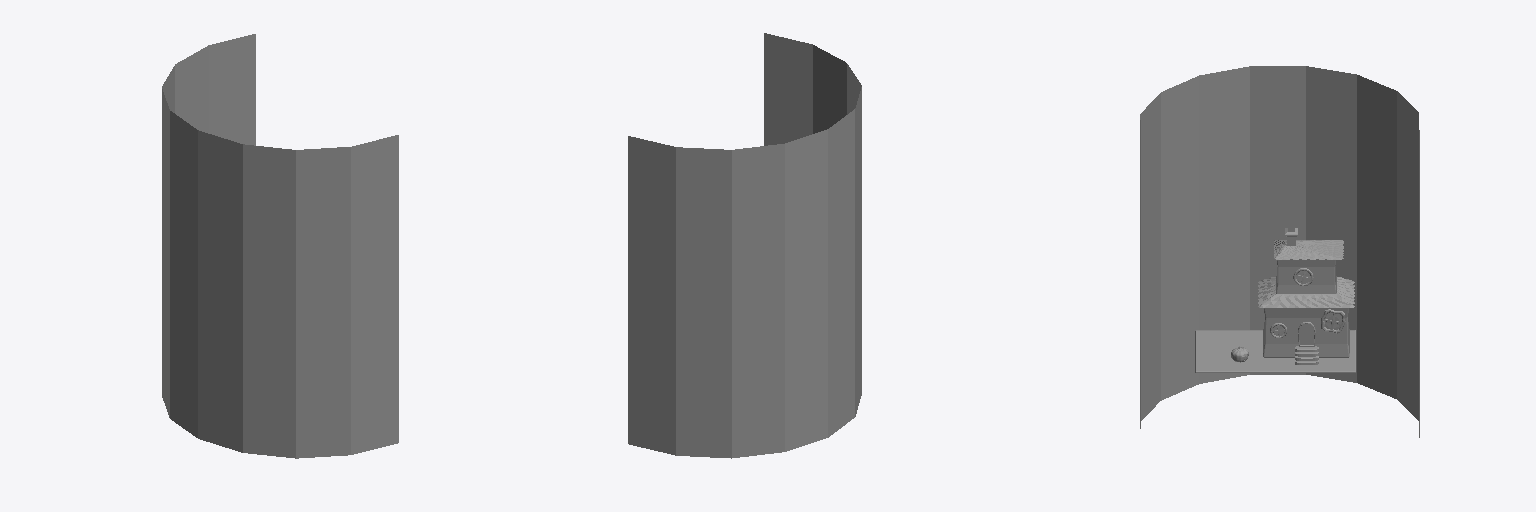
The model's file is Brujas.obj.
The picture shows the model from 3 angles: view 1: azimuth 30°, elevation 25°; view 2: azimuth 150°, elevation 25°; view 3: azimuth 270°, elevation 25°; orthographic projection.
Visible parts, largest first — view 1: Cylinder; view 2: Cylinder; view 3: Cylinder, Cube_001.
Boxes of the visible parts, x1=… form: Cylinder: x1=162, y1=34, x2=398, y2=458; Cylinder: x1=628, y1=33, x2=861, y2=458; Cylinder: x1=1140, y1=66, x2=1419, y2=437; Cube_001: x1=1195, y1=228, x2=1355, y2=372.
Size of the model in its own units: 17.85 by 35.91 by 29.46.